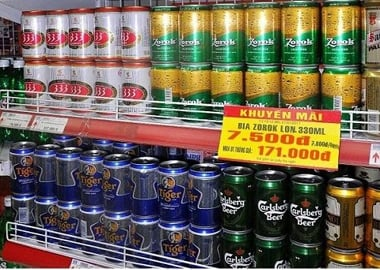333: (122, 86, 136, 99), (21, 32, 36, 44), (69, 82, 82, 95), (69, 32, 84, 43), (46, 32, 60, 43), (52, 84, 68, 92), (24, 84, 36, 91)
carlsberg: (289, 203, 323, 219), (223, 252, 256, 265), (256, 200, 289, 213)
tiger: (157, 186, 182, 201), (162, 242, 188, 256), (80, 175, 103, 188)
zorok: (325, 36, 356, 49), (284, 36, 313, 49)
